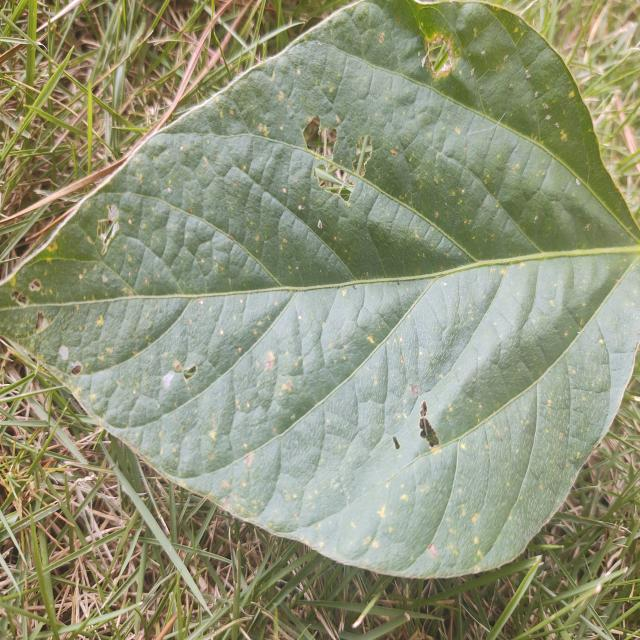Soybean: (0, 0, 640, 583)
downey_mildew: (321, 440, 446, 571), (467, 209, 545, 333), (211, 302, 295, 410), (426, 340, 530, 421), (388, 396, 487, 477), (365, 384, 438, 488), (549, 304, 619, 401), (264, 198, 352, 274), (312, 118, 358, 201), (391, 397, 426, 453), (418, 402, 439, 449), (410, 384, 419, 397), (392, 436, 400, 449)
